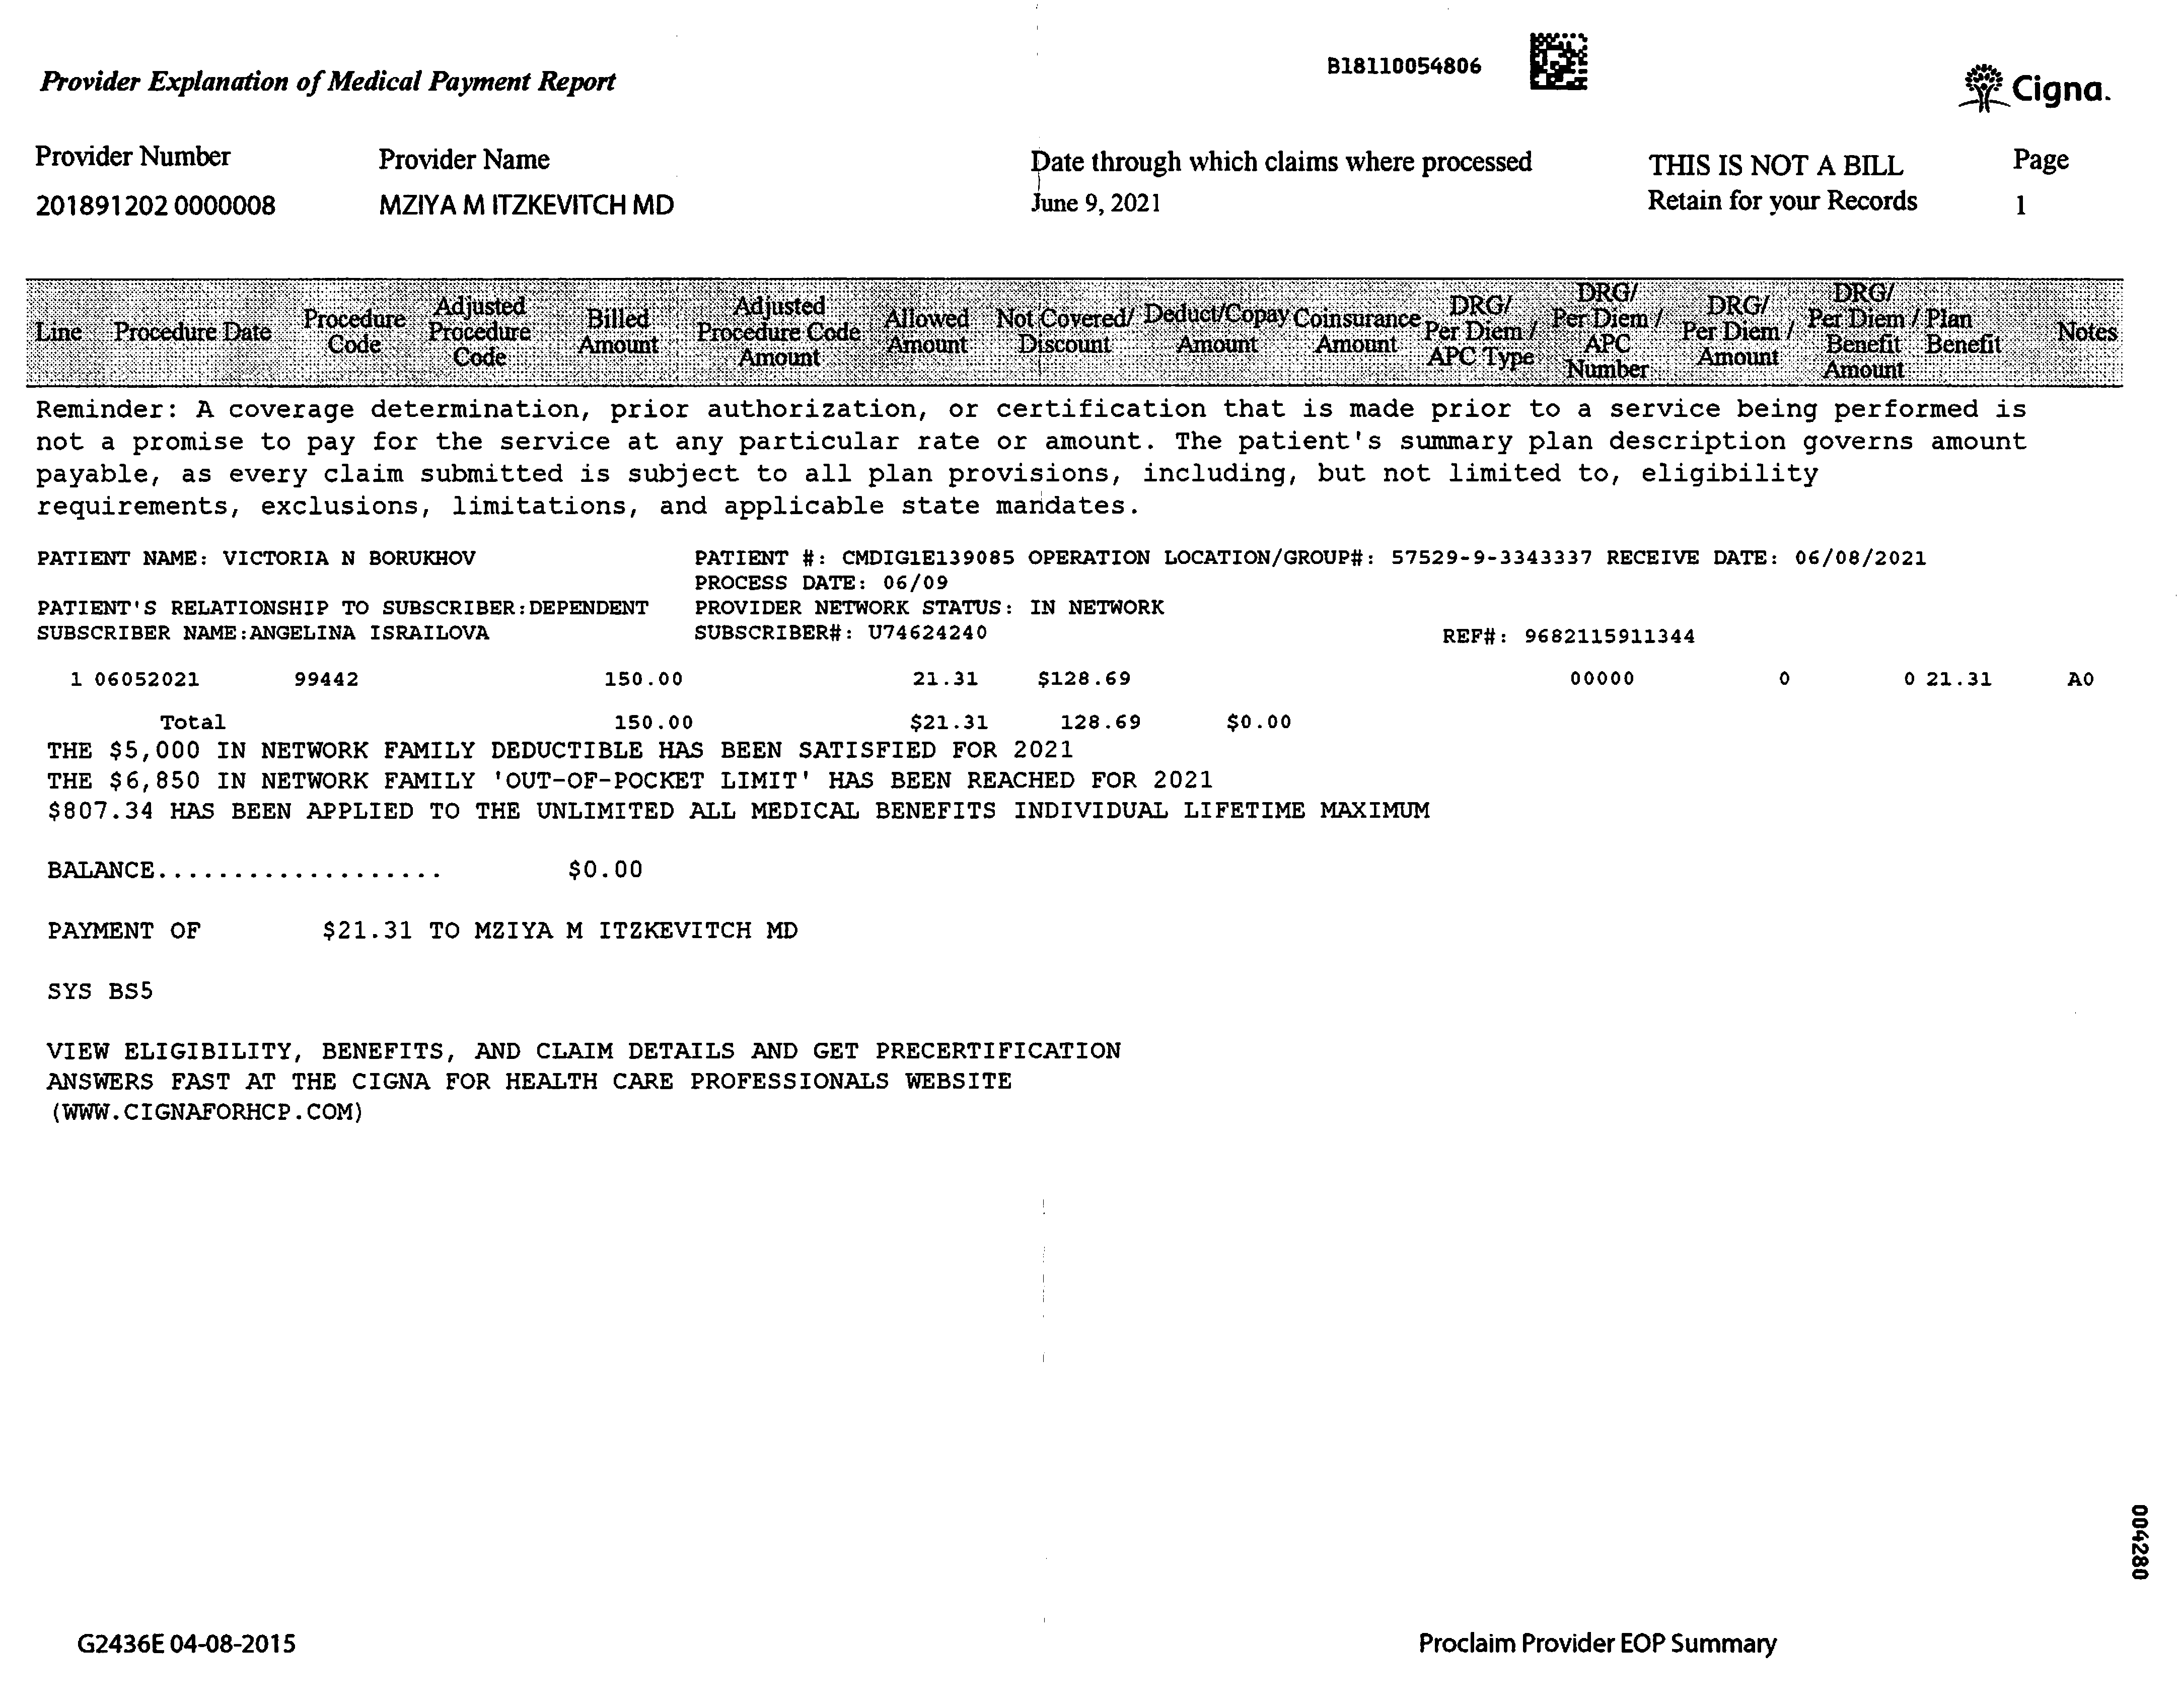data: (18, 127, 709, 239)
